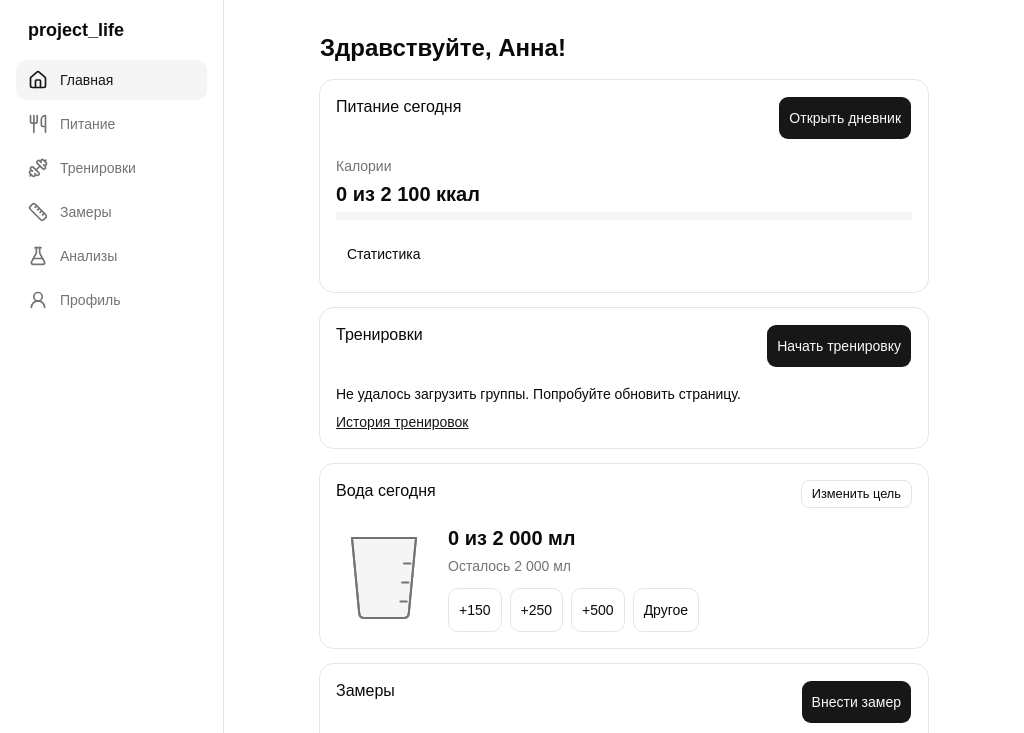
it: вода на главной › вносит порцию одним касанием
This screenshot has width=1024, height=733.
Click the button named "Добавить 250 мл" at (536, 610), box [510, 588, 563, 632]
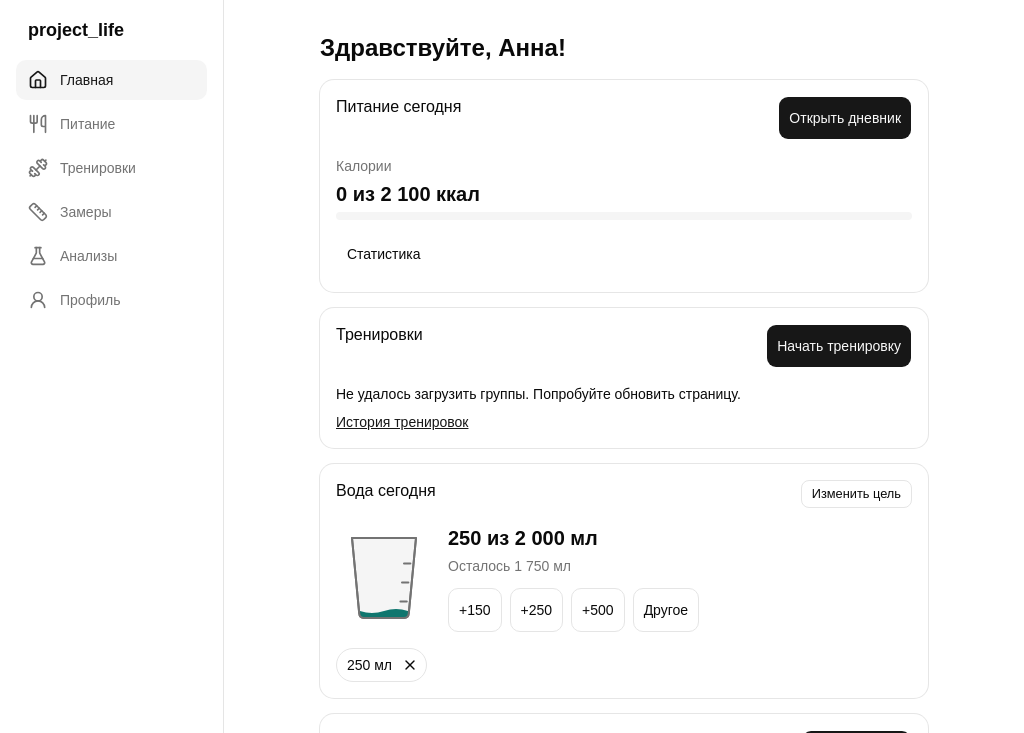
Now the text "250 из 2 000 мл" is shown, box [448, 527, 598, 549]
